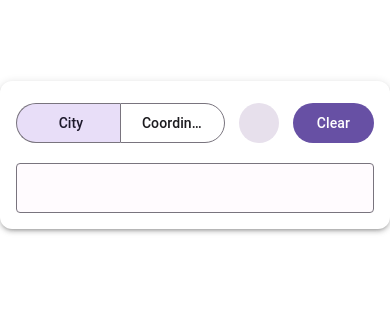
it: SearchBar Component › Coordinates Mode › validates an invalid latitude and announces the error
The width and height of the screenshot is (390, 315).
Click the button with aria-label "Coordinates search" at {"x": 172, "y": 123}, box [121,104,224,142]
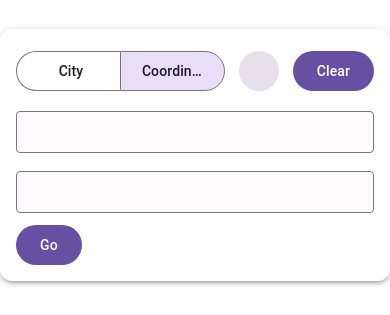
Type "100" into the field named "latitude" at {"x": 195, "y": 133}, box [16,113,374,153]
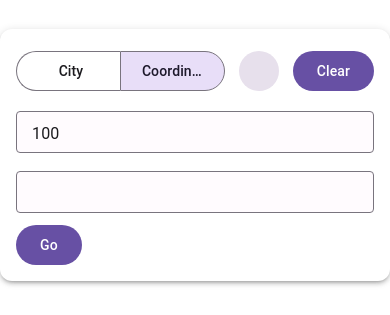
Type "45" into the field named "longitude" at {"x": 195, "y": 193}, box [16,173,374,213]
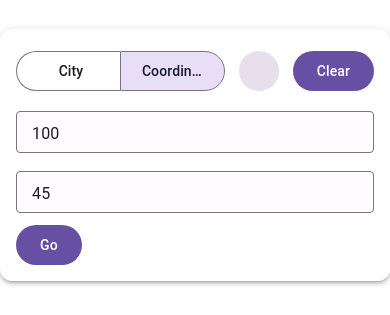
Click the button "Go" at {"x": 49, "y": 245}, box [16,225,82,265]
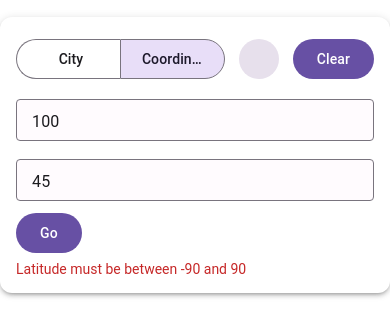
Now the message reads "Latitude must be between -90 and 90", box [16,261,246,277]
